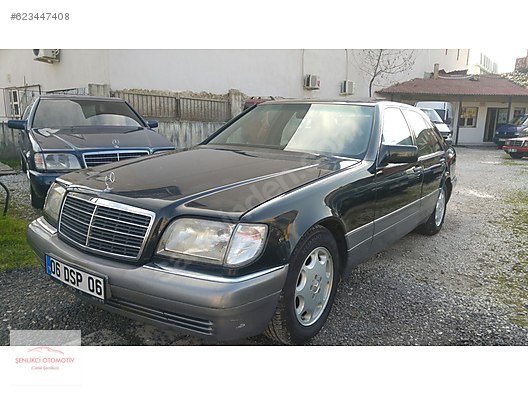m: (23, 93, 460, 345)
